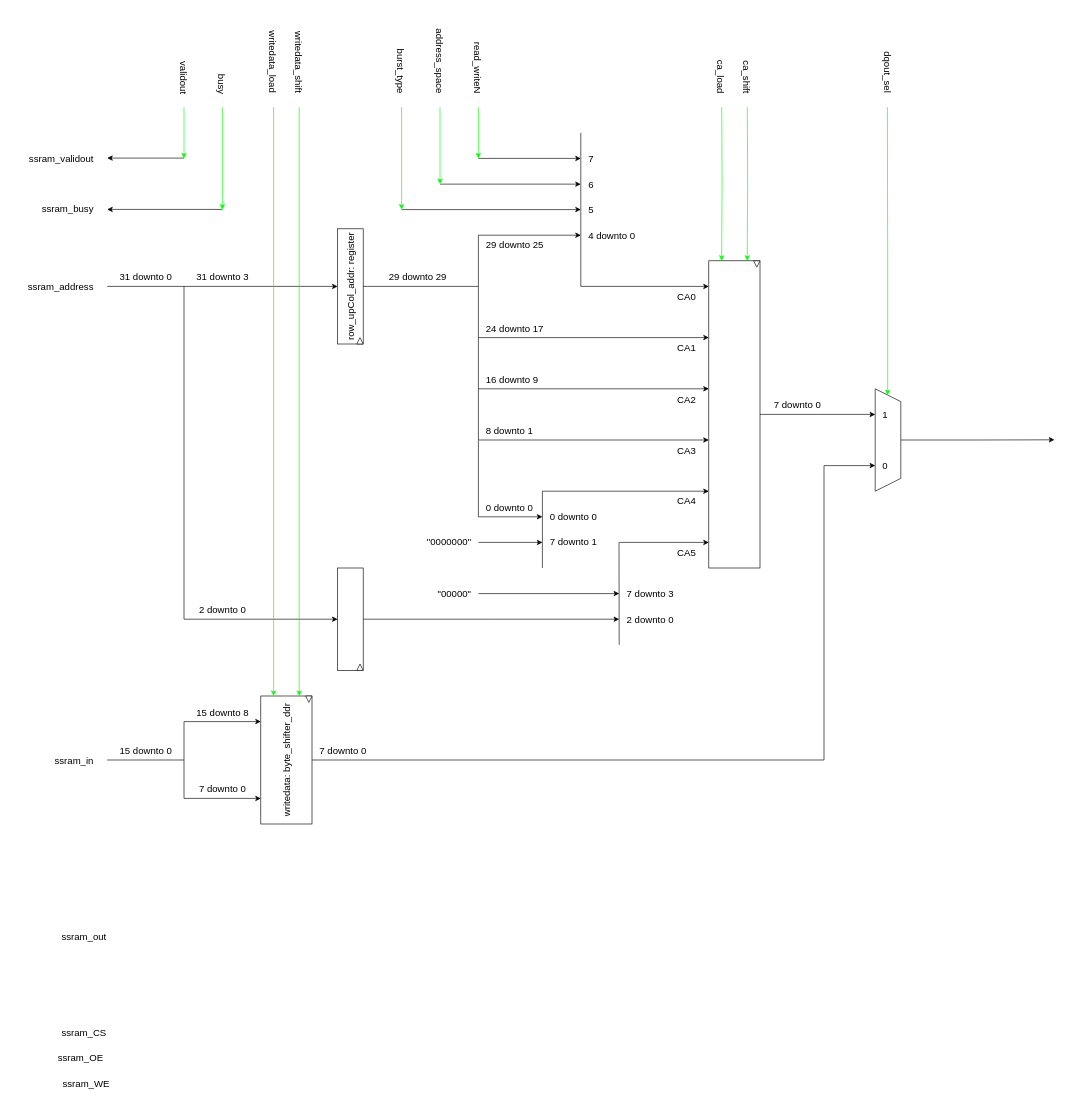
This 1071x1103 diagram has some shape labels left out. Each missing label, with the centre of its shape:
"CA: byte_shifter_ddr" goes at point 734,414.
"lowCol_addr: register" goes at point 350,618.
